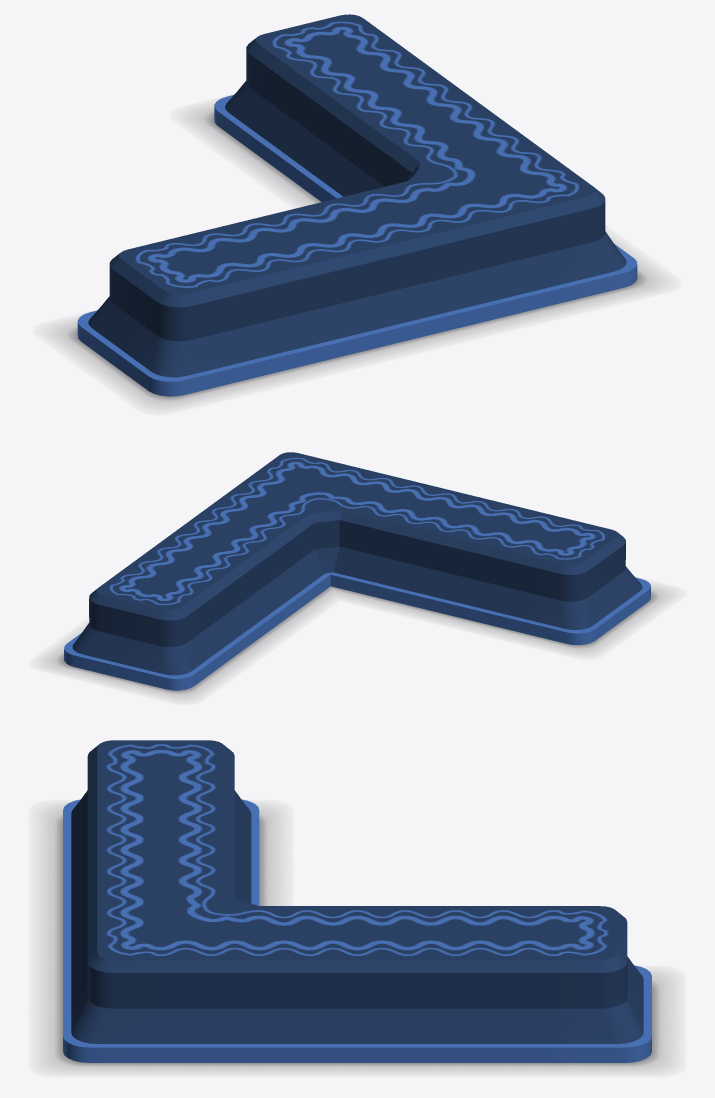
Rendered from island_small.glb.
3 views of the same model, one above another, from view 1: azimuth 30°, elevation 25°; view 2: azimuth 150°, elevation 25°; view 3: azimuth 270°, elevation 25° (orthographic). The views are drawn at different scales.
Parts seen in each view (by area): view 1: slice_bot.017; view 2: slice_bot.017; view 3: slice_bot.017.
Boxes of the visible parts, <box> form: slice_bot.017: <box>57,14,656,404</box>; slice_bot.017: <box>48,452,666,697</box>; slice_bot.017: <box>47,740,667,1069</box>.
Bounding box in the file's own units: 14 × 2 × 14.
4 materials, 4 textured.
